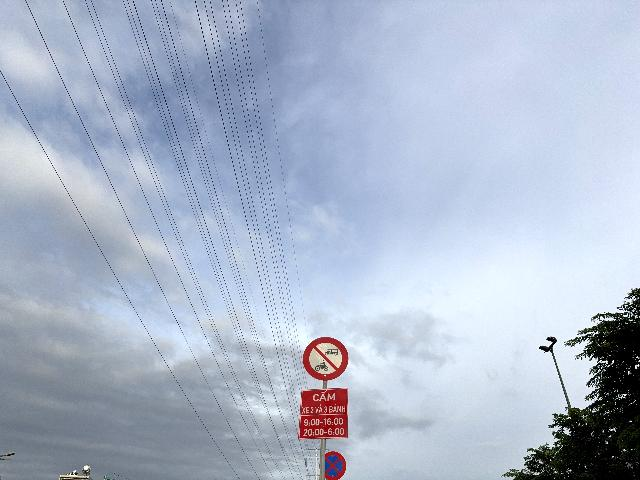cam-dung-va-do-xe: (325, 451, 347, 480)
cam-xe-2-banh-3-banh: (302, 337, 349, 380)
